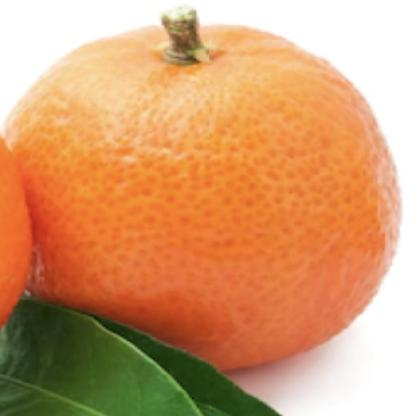fresh: (1, 10, 399, 380)
